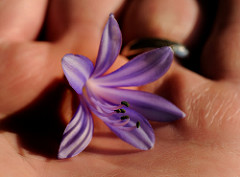palm: (87, 57, 227, 170)
